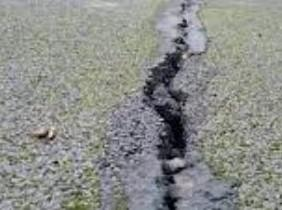crack: (140, 1, 193, 210)
